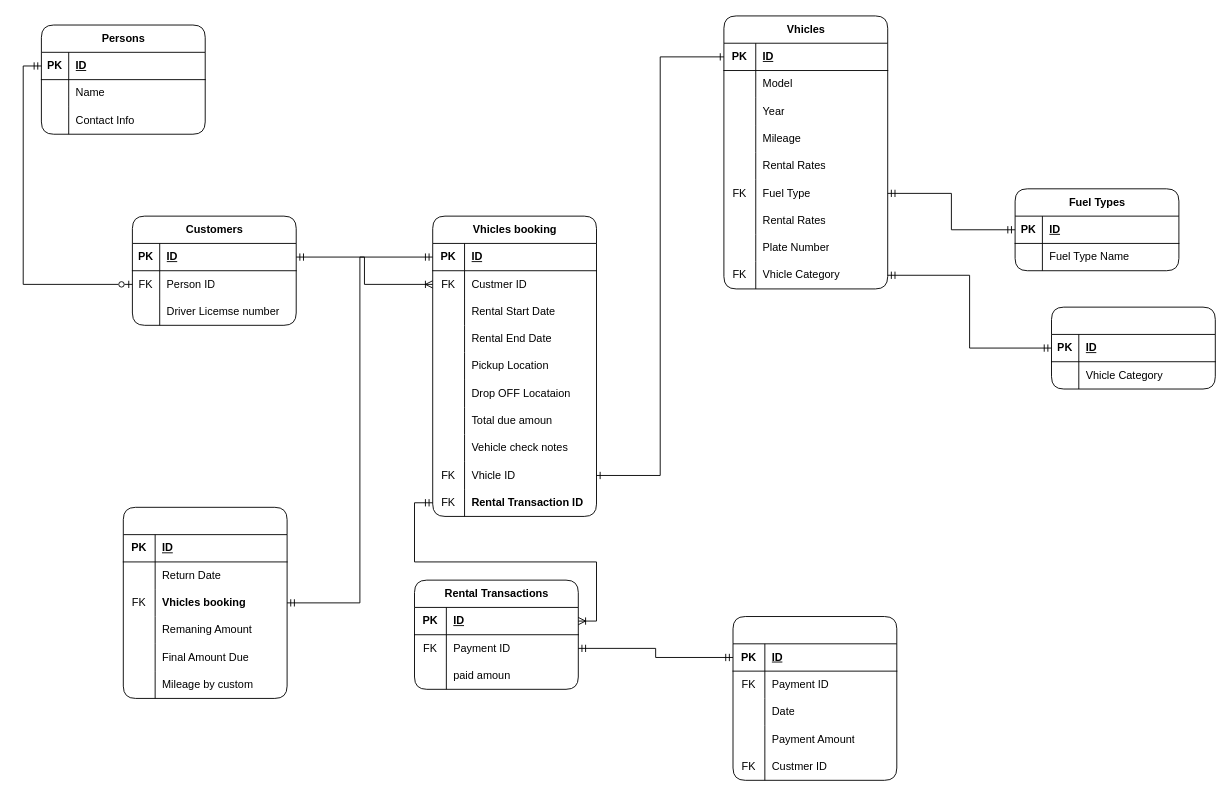
The diagram is 1231 pixels wide and 796 high, and some of its shapes have lost their labels. The shapes that lost their labels are listed below. From the top down, each one's box as (x1, y1, x2, y2) in pixels, then its label:
(1051, 306, 1215, 389): Vhicle Categorys
(122, 506, 287, 698): Vhicle Returns
(732, 616, 897, 780): Payments
